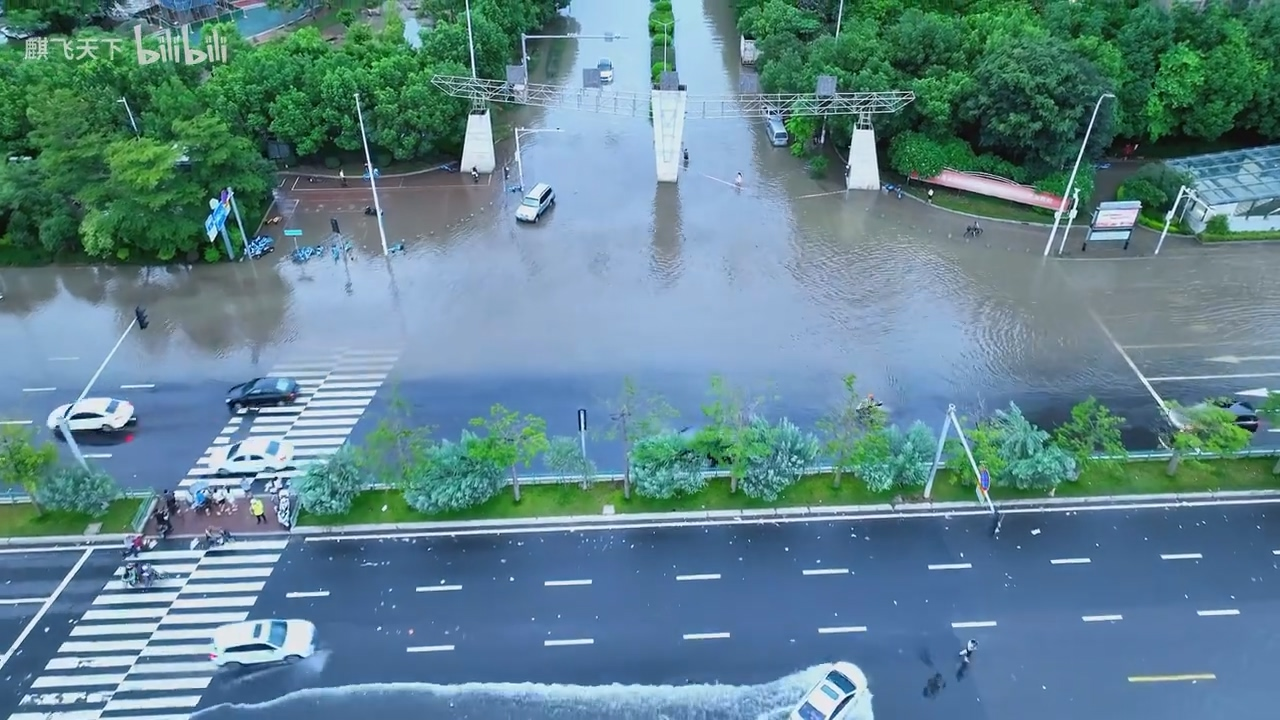puddle: (22, 241, 1273, 391)
